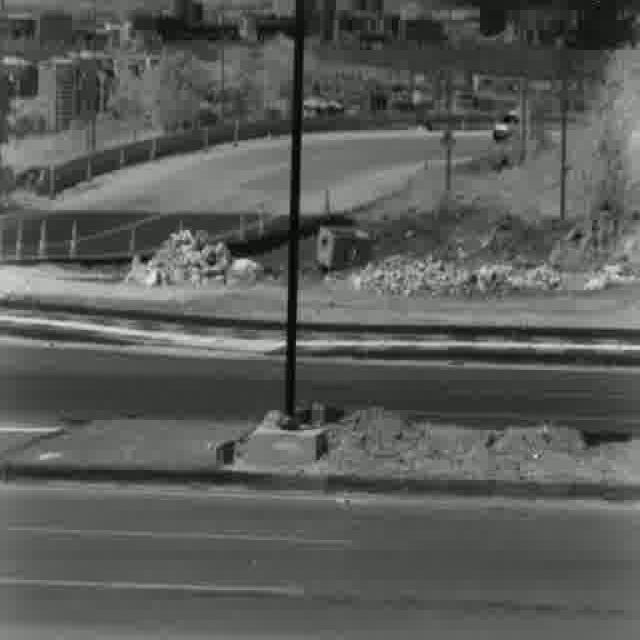Car: (491, 108, 521, 141)
